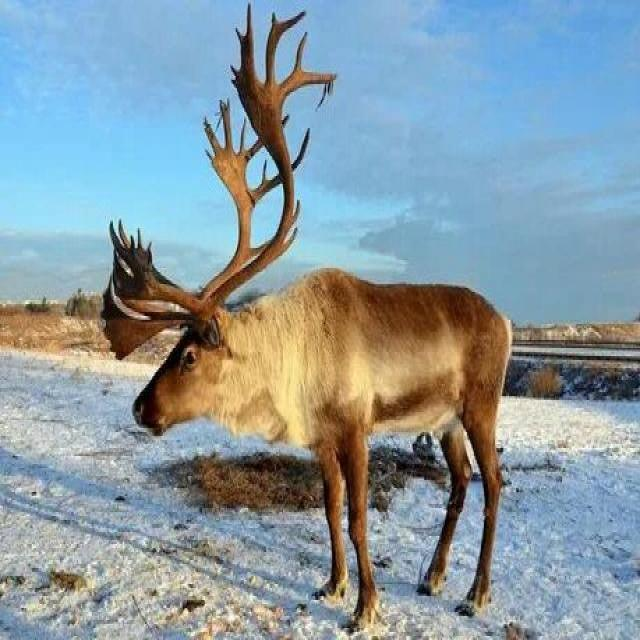deer: (108, 36, 521, 560)
